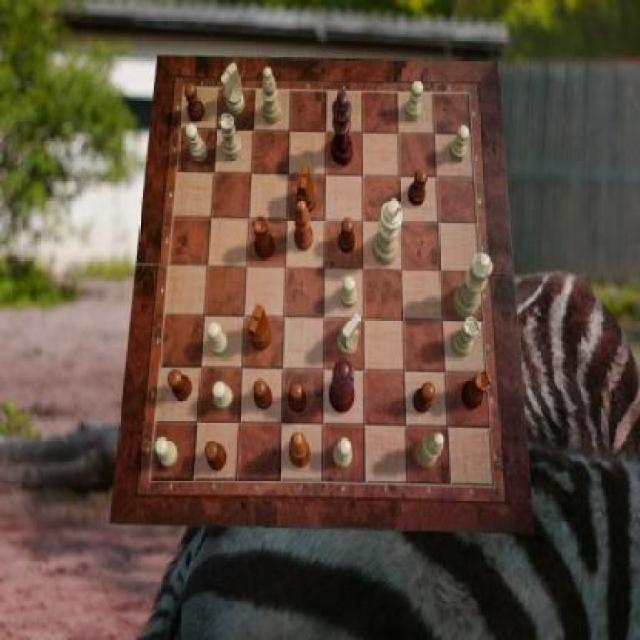bishop: (294, 200, 314, 252), (289, 432, 312, 468)
black-bishop: (331, 91, 353, 165)
black-king: (248, 304, 272, 350), (297, 163, 317, 215)
black-knight: (169, 369, 194, 402), (186, 83, 206, 123), (408, 170, 428, 206), (414, 382, 437, 412), (338, 218, 356, 254), (206, 442, 227, 472), (254, 380, 273, 411), (288, 383, 307, 414)
black-pawn: (330, 358, 356, 414)
black-queen: (462, 371, 492, 411), (254, 216, 277, 260)
black-rook: (263, 66, 283, 124), (414, 432, 444, 467)
white-bishop: (372, 199, 402, 266)
white-king: (220, 63, 245, 115), (337, 314, 360, 358)
white-knight: (186, 123, 207, 162), (206, 322, 229, 356), (451, 125, 471, 162), (405, 80, 422, 122), (156, 437, 178, 468), (332, 437, 352, 469), (212, 383, 233, 411), (339, 277, 356, 309)
white-pawn: (452, 252, 493, 318)
white-queen: (452, 317, 480, 357), (220, 114, 243, 161)
